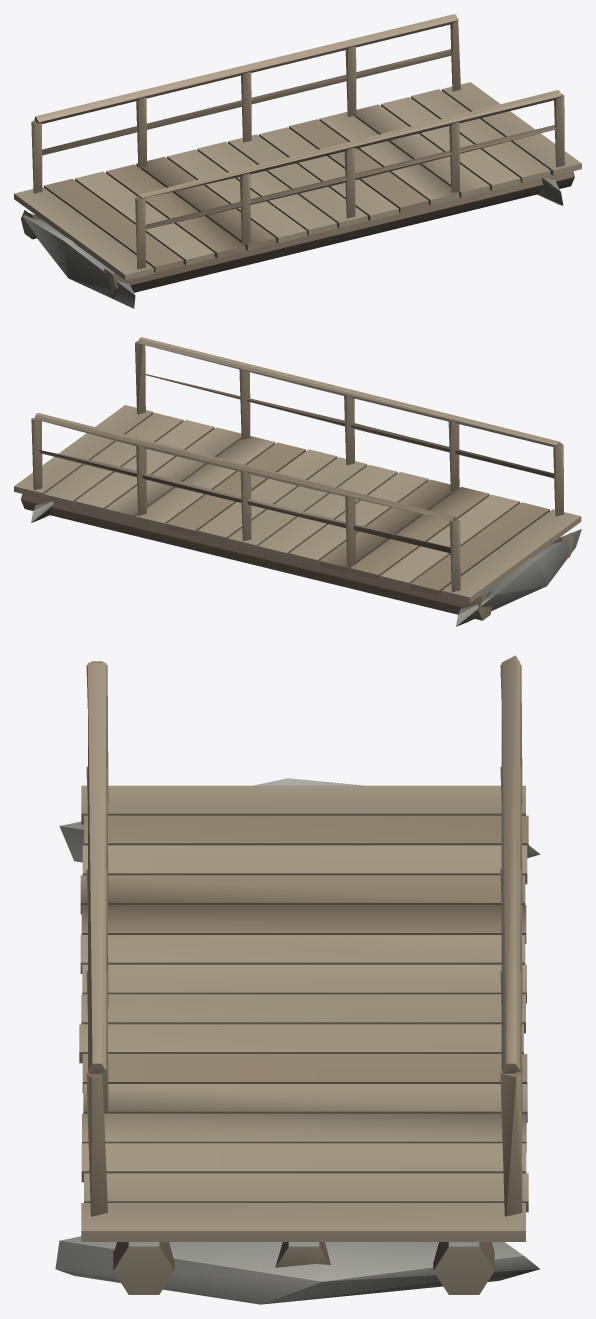
Rendered from bridge.lod2.glb.
The picture shows the model from 3 angles, top to bottom: view 1: azimuth 30°, elevation 25°; view 2: azimuth 150°, elevation 25°; view 3: azimuth 270°, elevation 25°; orthographic projection. The views are drawn at different scales.
Size of the model in its own units: 7.22 by 1.57 by 3.16.
